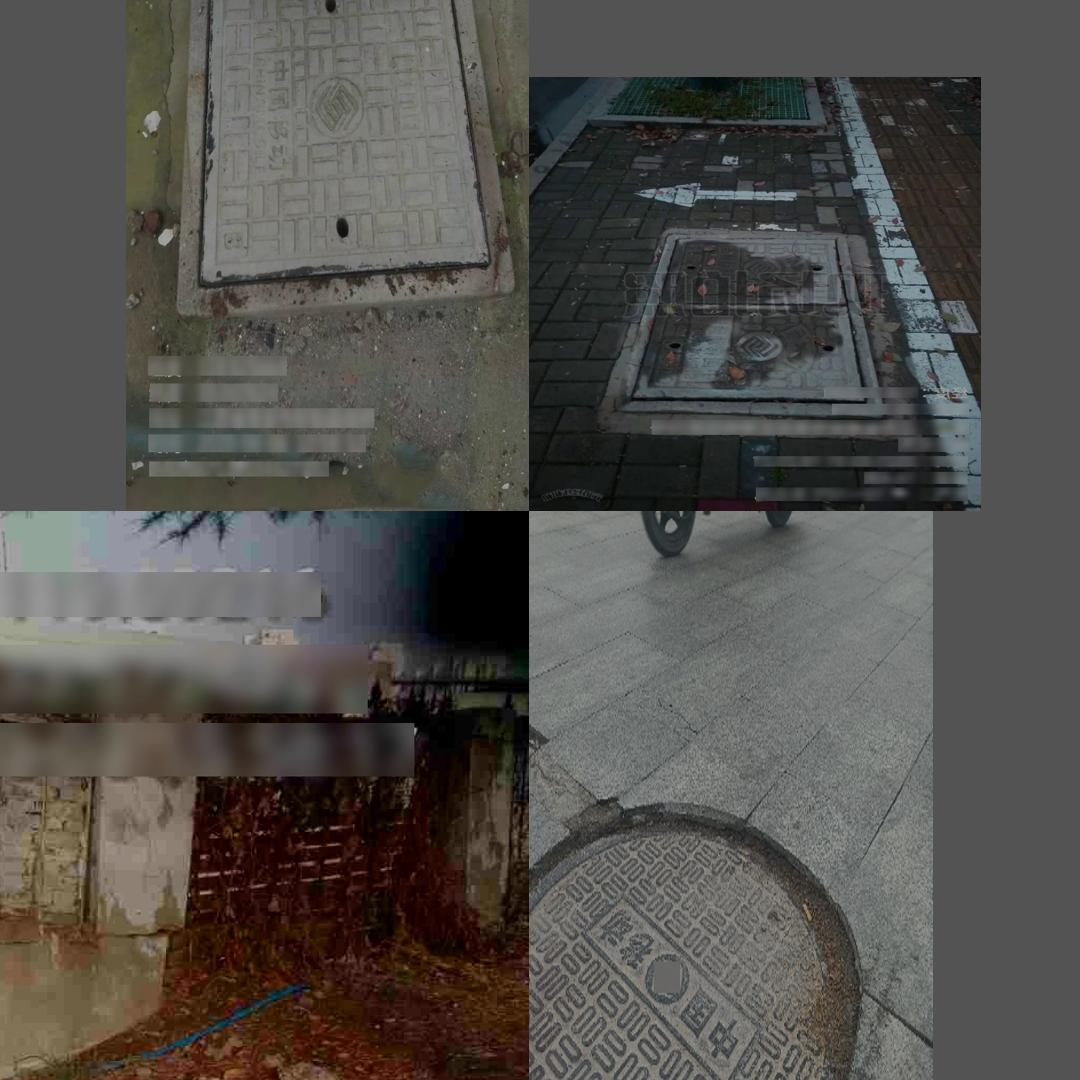good: (175, 0, 514, 314), (531, 821, 840, 1080), (616, 233, 887, 417)
